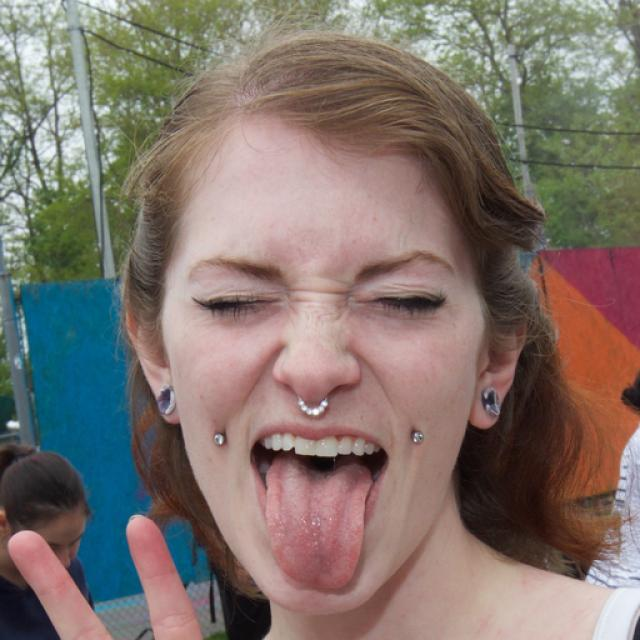happy: (168, 131, 480, 611)
